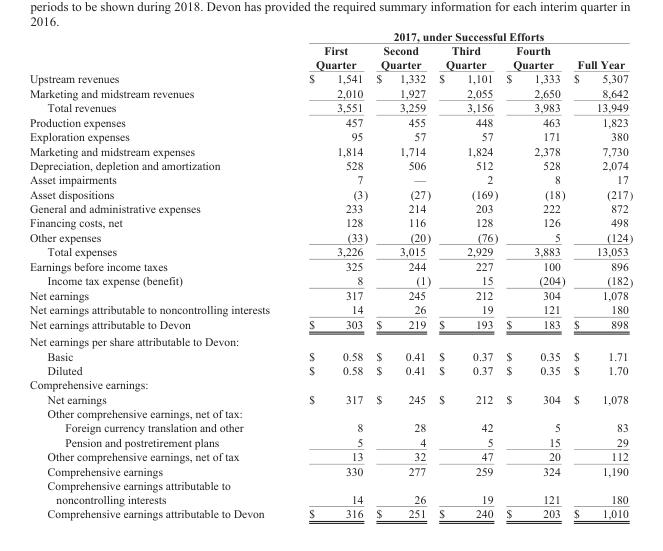table: (28, 29, 632, 519)
table column: (28, 29, 288, 519), (288, 29, 371, 519), (434, 29, 501, 519), (501, 29, 568, 519), (568, 29, 632, 519), (371, 29, 434, 519)
table column header: (28, 29, 632, 71)
table projected row header: (28, 332, 632, 348), (28, 405, 632, 420), (28, 377, 632, 391)
table row: (28, 43, 632, 71), (28, 478, 632, 506), (28, 316, 632, 332), (28, 332, 632, 348), (28, 85, 632, 100), (28, 114, 632, 129), (28, 143, 632, 158), (28, 186, 632, 201), (28, 229, 632, 244), (28, 258, 632, 273), (28, 287, 632, 302), (28, 362, 632, 377), (28, 405, 632, 420), (28, 434, 632, 449), (28, 463, 632, 478), (28, 29, 632, 43), (28, 71, 632, 85), (28, 100, 632, 114), (28, 129, 632, 143), (28, 158, 632, 172), (28, 172, 632, 186), (28, 201, 632, 215), (28, 215, 632, 229), (28, 244, 632, 258), (28, 273, 632, 287), (28, 302, 632, 316), (28, 348, 632, 362), (28, 377, 632, 391), (28, 391, 632, 405), (28, 420, 632, 434), (28, 449, 632, 463), (28, 506, 632, 519)
table spanning cell: (288, 29, 632, 43)
